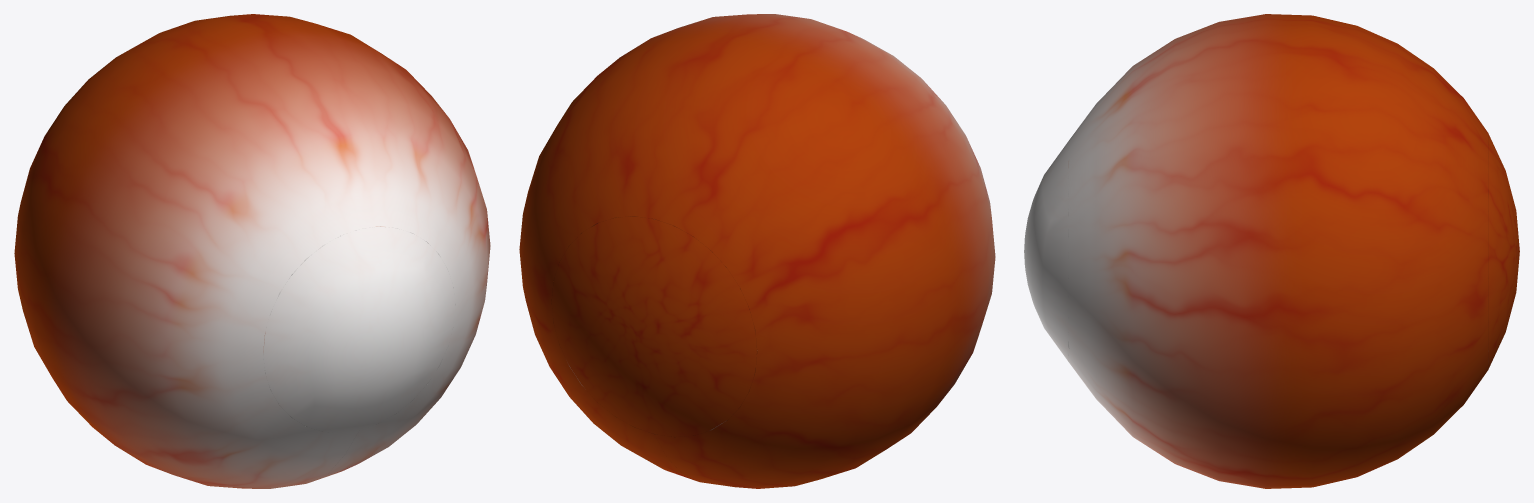
3 renders of one model, left to right at view 1: azimuth 30°, elevation 25°; view 2: azimuth 150°, elevation 25°; view 3: azimuth 270°, elevation 25°, orthographic.
Parts seen in each view (by area): view 1: Eye; view 2: Eye; view 3: Eye.
Boxes of the visible parts, left/top/right/bottom form: Eye: left=14, top=14, right=490, bottom=488; Eye: left=519, top=14, right=995, bottom=488; Eye: left=1024, top=14, right=1519, bottom=488.
Size of the model in its own units: 1.98 by 1.98 by 2.06.
